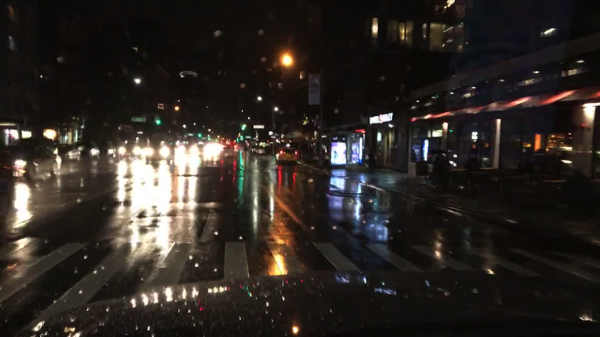car: (0, 144, 63, 180), (274, 143, 299, 166), (145, 143, 174, 162), (89, 146, 116, 160), (118, 143, 142, 158), (66, 142, 86, 160), (176, 143, 198, 157), (202, 143, 224, 156), (251, 146, 265, 155)
person: (566, 167, 589, 189), (430, 156, 439, 192), (440, 157, 449, 191), (465, 156, 481, 173), (366, 148, 375, 174)
traffic light: (197, 131, 203, 138), (156, 119, 162, 125)
traffic sign: (131, 118, 148, 122), (253, 125, 264, 129), (270, 135, 276, 139)
